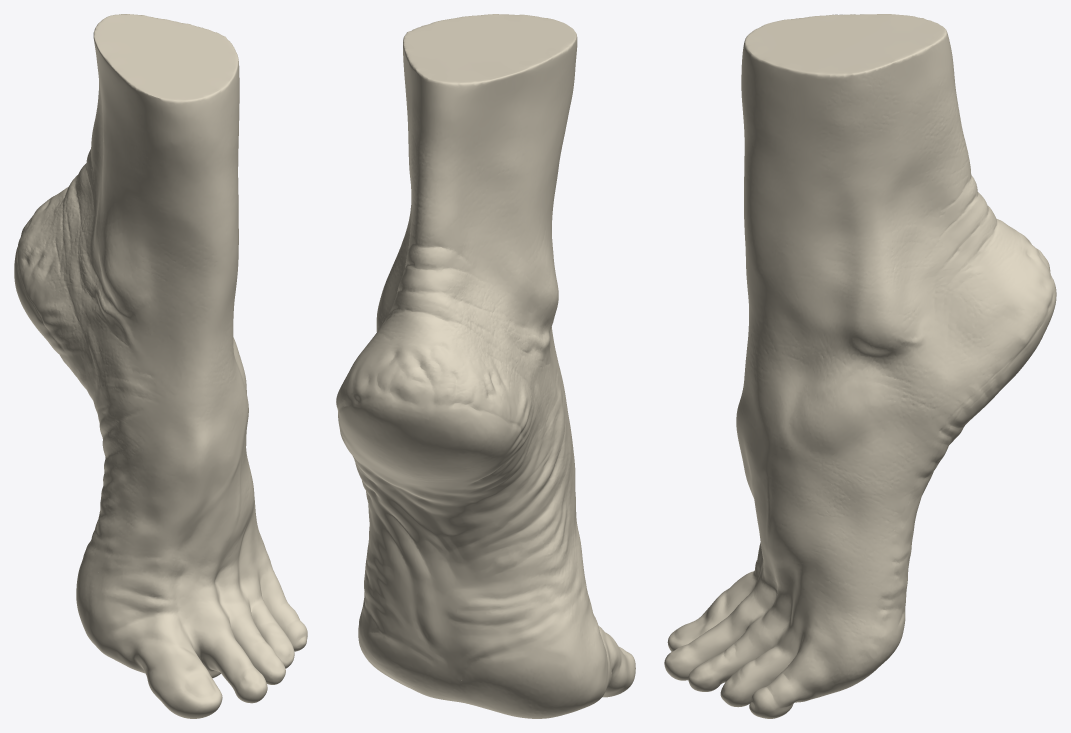
Rendered from left_foot_study.glb.
The picture shows the model from 3 angles, left to right: view 1: azimuth 30°, elevation 25°; view 2: azimuth 150°, elevation 25°; view 3: azimuth 270°, elevation 25°; orthographic projection. The views are drawn at different scales.
Visible parts, largest first — view 1: Object_2, Object_3; view 2: Object_2, Object_3; view 3: Object_2, Object_3.
Boxes of the visible parts, x1,y1,x2,y2 form: Object_2: (14,27,307,718); Object_3: (14,14,305,718); Object_2: (336,18,635,718); Object_3: (337,14,634,718); Object_2: (664,16,1056,718); Object_3: (664,14,1053,715).
Size of the model in its own units: 1.53 by 4.61 by 2.52.
